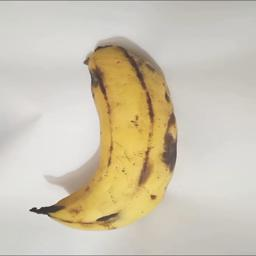Banana Unripe: (30, 41, 183, 236)
